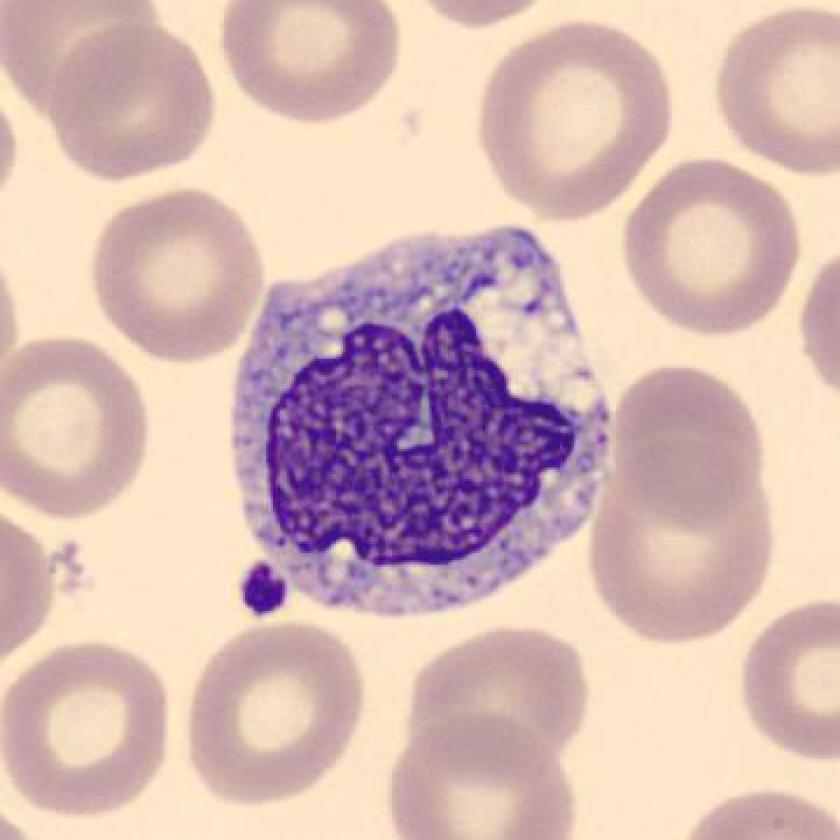monocyte: (211, 207, 640, 637)
